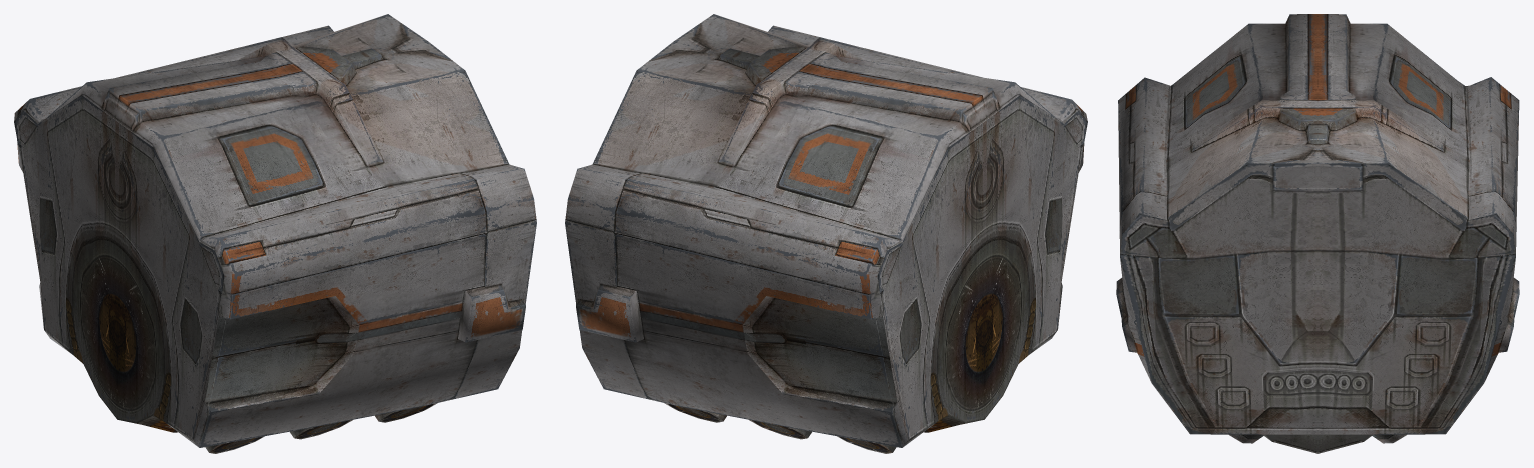
File: Small_s01_p04.FBX
3 views of the same model, side by side, from view 1: azimuth 30°, elevation 25°; view 2: azimuth 150°, elevation 25°; view 3: azimuth 270°, elevation 25° (orthographic). The views are drawn at different scales.
Parts seen in each view (by area): view 1: Small_s01_p04; view 2: Small_s01_p04; view 3: Small_s01_p04.
Part boxes in pixels (x1=…): Small_s01_p04: x1=14, y1=14, x2=536, y2=453; Small_s01_p04: x1=565, y1=14, x2=1087, y2=453; Small_s01_p04: x1=1116, y1=14, x2=1519, y2=453.
Bounding box in the file's own units: 11.39 × 12.26 × 13.94.
